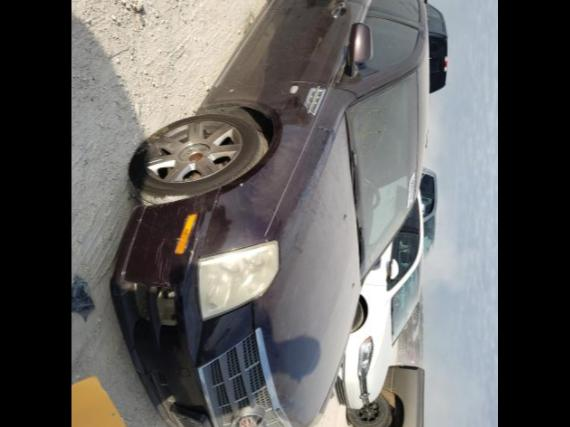Missing part: (176, 414, 206, 427)
Scratch: (150, 196, 209, 238), (152, 232, 168, 286), (134, 212, 158, 230)
